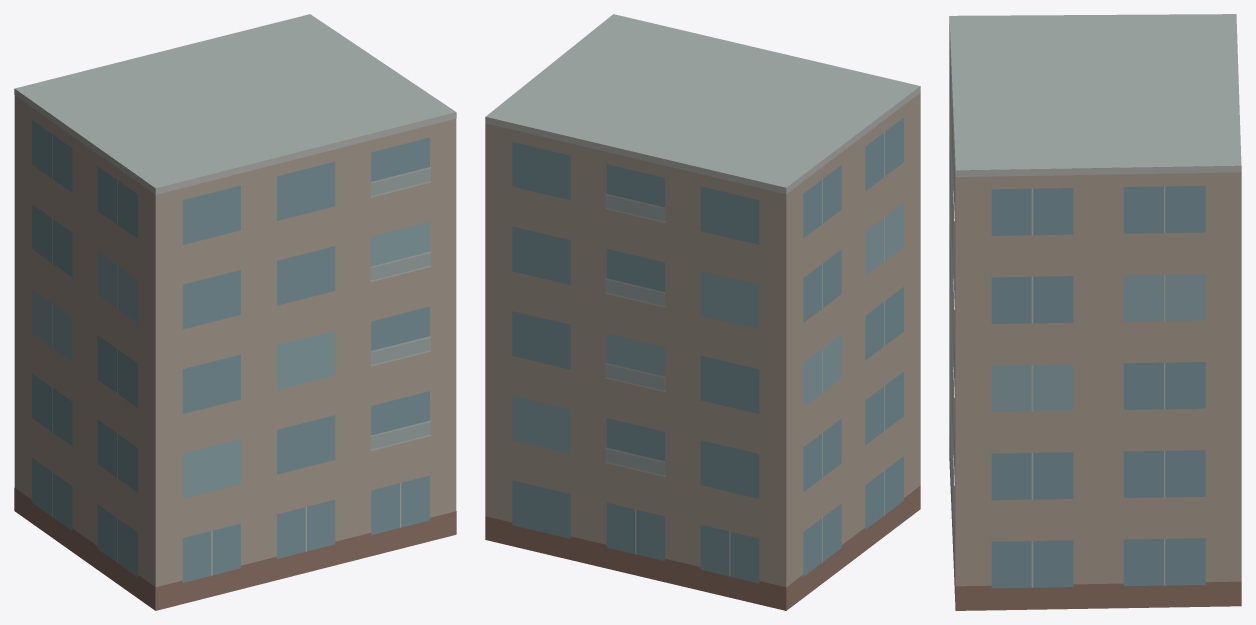
Rendered from survey-upis-32632425.glb.
The picture shows the model from 3 angles, left to right: view 1: azimuth 30°, elevation 25°; view 2: azimuth 150°, elevation 25°; view 3: azimuth 270°, elevation 25°; orthographic projection. The views are drawn at different scales.
Parts seen in each view (by area): view 1: survey-upis-32632425.tmp; view 2: survey-upis-32632425.tmp; view 3: survey-upis-32632425.tmp.
Boxes of the visible parts, x1,y1,x2,y2 form: survey-upis-32632425.tmp: [14, 14, 456, 610]; survey-upis-32632425.tmp: [485, 14, 920, 610]; survey-upis-32632425.tmp: [949, 14, 1241, 610].
Size of the model in its own units: 12.11 by 15.9 by 9.56.
